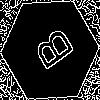B: (25, 25, 76, 78)
